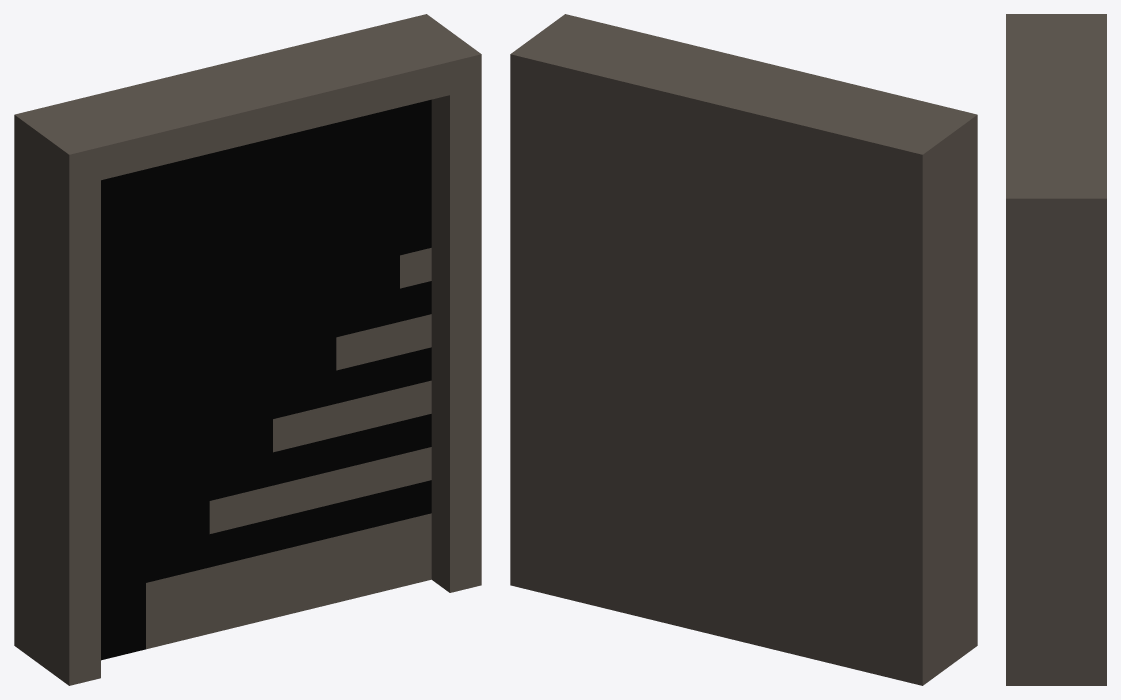
Rendered from dungeon_a_a_entrance_b.obj.
The picture shows the model from 3 angles, left to right: view 1: azimuth 30°, elevation 25°; view 2: azimuth 150°, elevation 25°; view 3: azimuth 270°, elevation 25°; orthographic projection. The views are drawn at different scales.
Size of the model in its own units: 1.3 by 1.6 by 0.3.
Materials: 1 (1 with a texture image).
